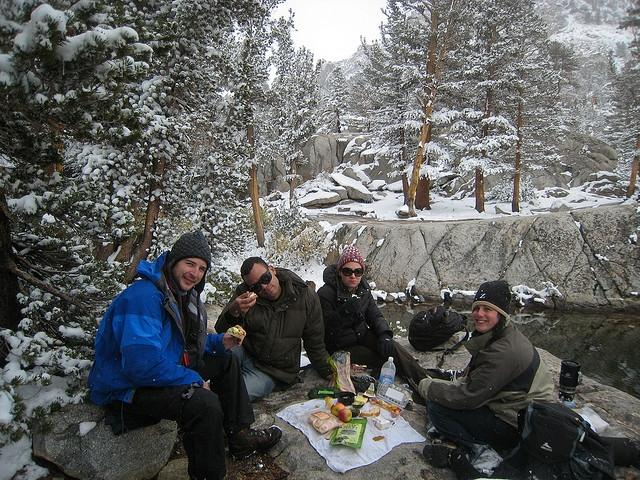apple: (330, 402, 345, 418), (338, 408, 352, 422)
